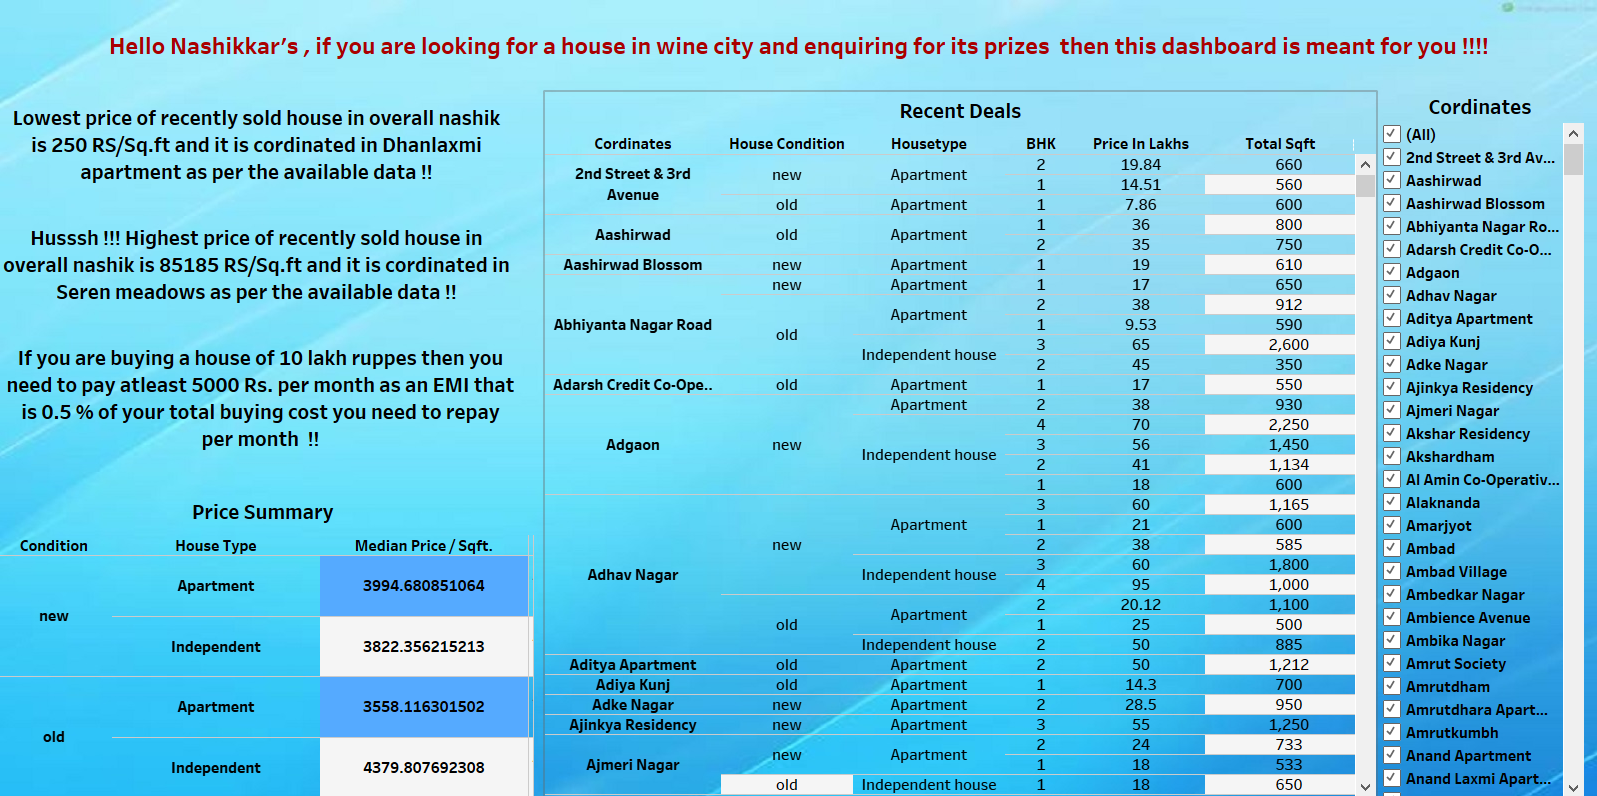

What the dashboard file says about the page in this screenshot:
{"tool":"tableau","page":{"name":"Dashboard 1","canvas":[1600,800],"ordinal":0},"visuals":[{"type":"image","param":"Image/skyblue.jpg","box":[0,0,1600,800]},{"type":"text","box":[0,20,1600,50]},{"type":"text","box":[0,92,515,104]},{"type":"worksheet","title":"Sheet 1","mark":"Automatic","rows":["cordinates","house_condition","housetype","BHK","max(price)","total_sqft"],"box":[546,92,831,707]},{"type":"filter","title":"Sheet 1","param":"[federated.1p0rqd509mugvf17jankc1bgbkqg].[none:cordinates:nk]","box":[1377,92,208,707]},{"type":"text","box":[0,209,515,110]},{"type":"text","box":[4,342,515,110]}]}

Visuals, with their boxes in screenshot pixels (x1, y1, x2, y2), scaled from the page's 1600x800 canvas onto the 1597x796 screenshot:
image: {"left": 0, "top": 0, "right": 1596, "bottom": 795}
text: {"left": 0, "top": 20, "right": 1596, "bottom": 70}
text: {"left": 0, "top": 92, "right": 514, "bottom": 195}
"Sheet 1" worksheet: {"left": 545, "top": 92, "right": 1374, "bottom": 795}
"Sheet 1" filter: {"left": 1374, "top": 92, "right": 1582, "bottom": 795}
text: {"left": 0, "top": 208, "right": 514, "bottom": 317}
text: {"left": 4, "top": 340, "right": 518, "bottom": 450}
